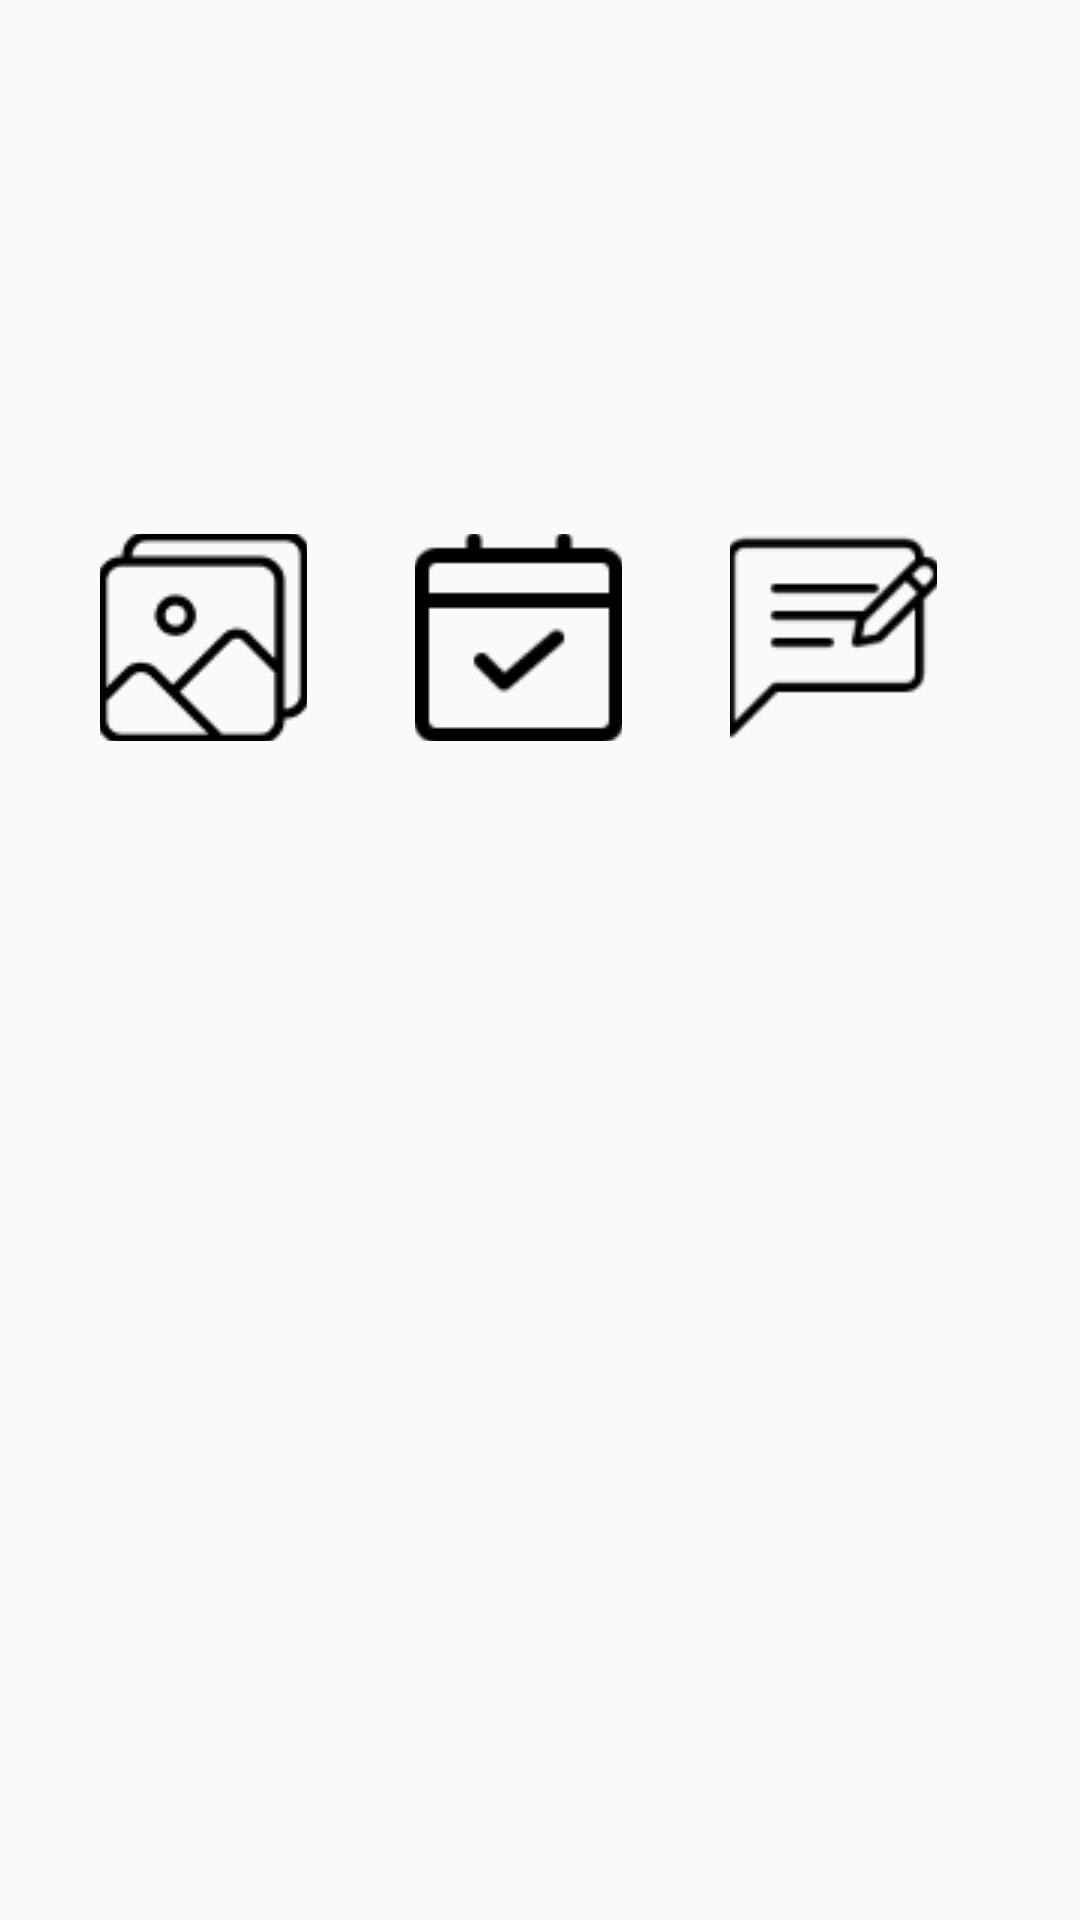

Locate icon controls on the screen. Image size 1080*1920, boxes as [x1=x1, y1=y1, x2=x2, y2=y2].
dashboard pemesanan: [x1=415, y1=534, x2=622, y2=741]
feedback: [x1=730, y1=536, x2=937, y2=738]
galery: [x1=100, y1=534, x2=307, y2=741]
